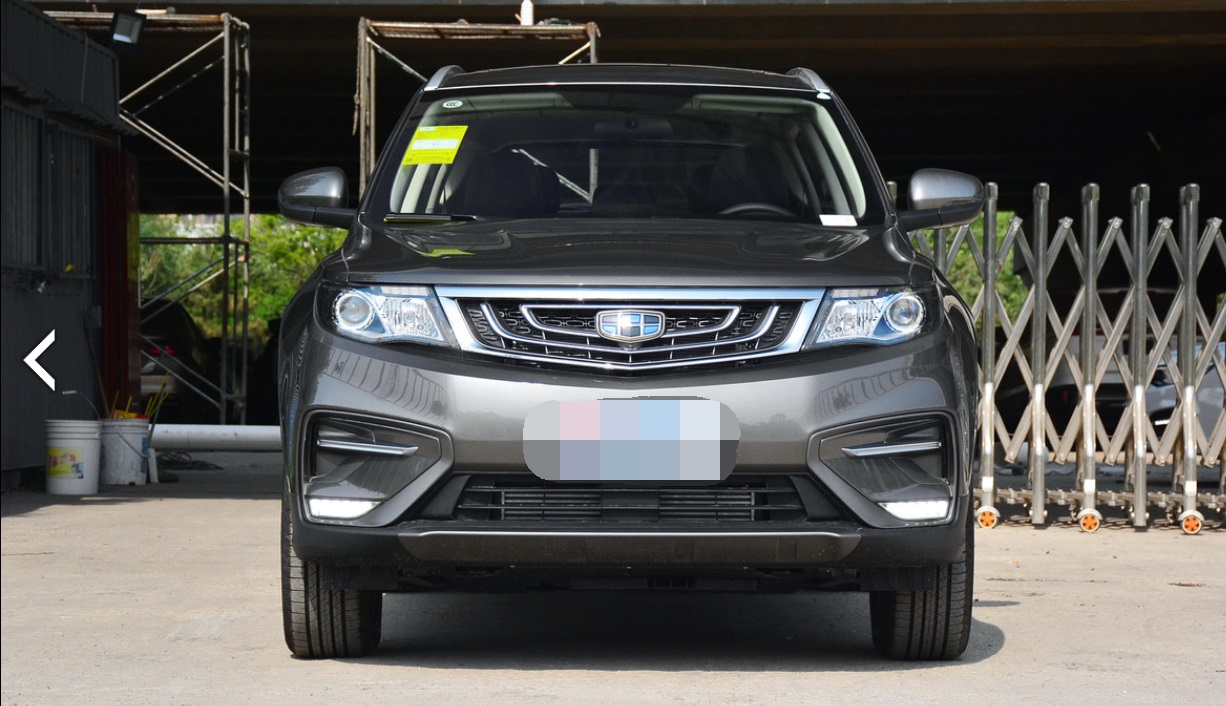SUV: (274, 52, 989, 675)
